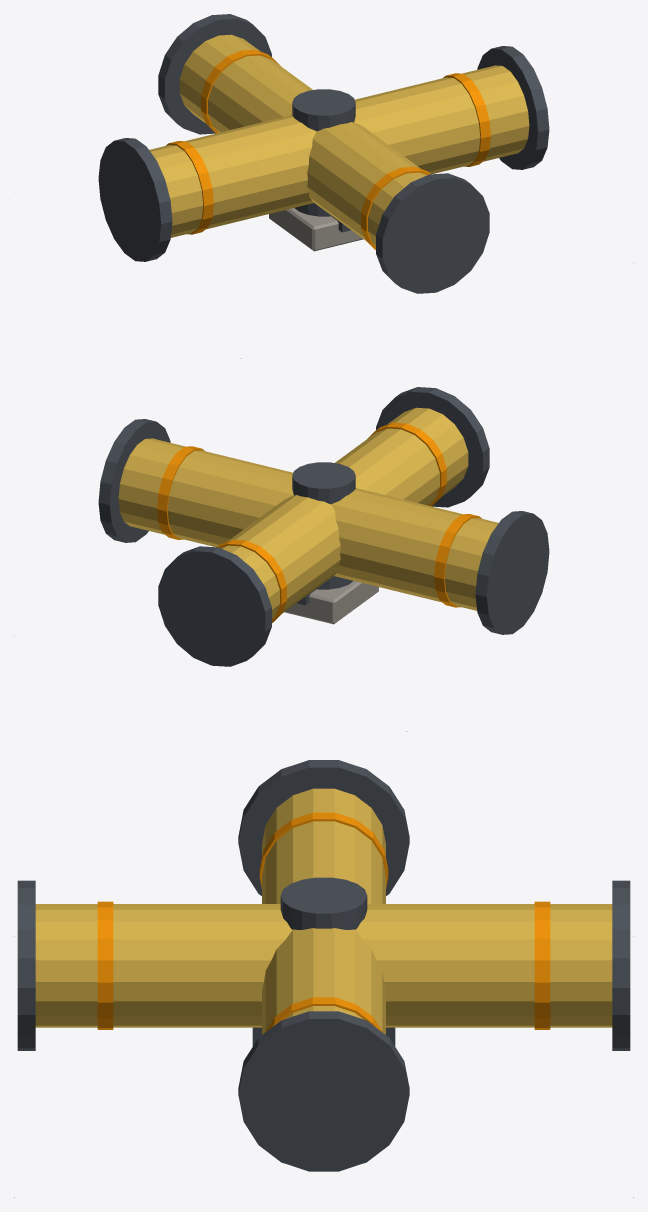
The model's file is tuyau_croix_t2.glb.
3 views of the same model, one above another, from view 1: azimuth 30°, elevation 25°; view 2: azimuth 150°, elevation 25°; view 3: azimuth 270°, elevation 25° (orthographic). The views are drawn at different scales.
Parts seen in each view (by area): view 1: pieces_laiton.014, pieces_acier_sombre.044, pieces_rive_t2.014, pieces_beton.044; view 2: pieces_laiton.014, pieces_acier_sombre.044, pieces_rive_t2.014, pieces_beton.044; view 3: pieces_laiton.014, pieces_acier_sombre.044, pieces_rive_t2.014.
Boxes of the visible parts, left/top/right/bottom form: pieces_laiton.014: left=149, top=34, right=529, bottom=245; pieces_acier_sombre.044: left=98, top=14, right=549, bottom=293; pieces_rive_t2.014: left=166, top=49, right=490, bottom=249; pieces_beton.044: left=269, top=208, right=363, bottom=251; pieces_laiton.014: left=118, top=407, right=498, bottom=618; pieces_acier_sombre.044: left=98, top=387, right=549, bottom=666; pieces_rive_t2.014: left=157, top=422, right=481, bottom=622; pieces_beton.044: left=284, top=581, right=378, bottom=624; pieces_laiton.014: left=35, top=788, right=612, bottom=1034; pieces_acier_sombre.044: left=17, top=760, right=630, bottom=1171; pieces_rive_t2.014: left=97, top=812, right=550, bottom=1032.
Size of the model in its own units: 1 by 0.318 by 1.
